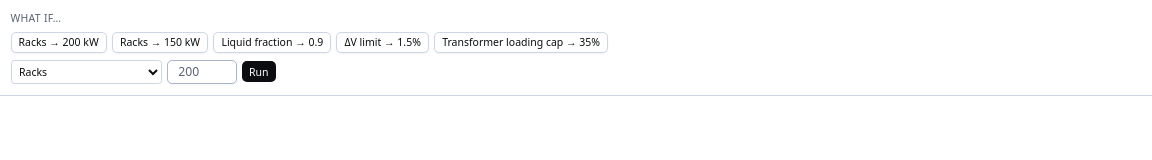
it: Run with nothing typed says what to enter, with an example, and asks the engine nothing
Click the button "Run" at (259, 72), box [242,61,276,82]
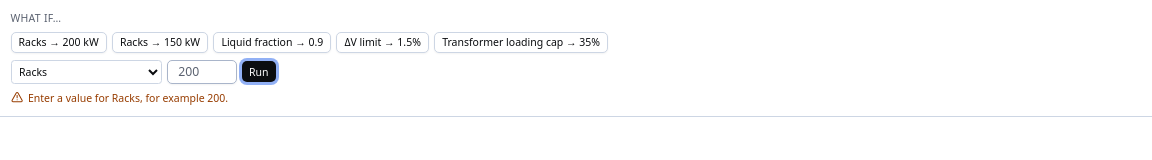
Expected: the message reads "Enter a value for Racks, for example 200.", [28,91,228,105]
Note: typing clears the note
Type "1" into the field named "What-if value" at (202, 72), box [167,60,237,84]
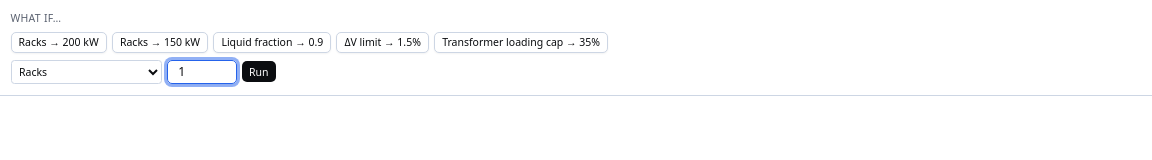
Expected: the message "Enter a value for Racks, for example 200." is gone
